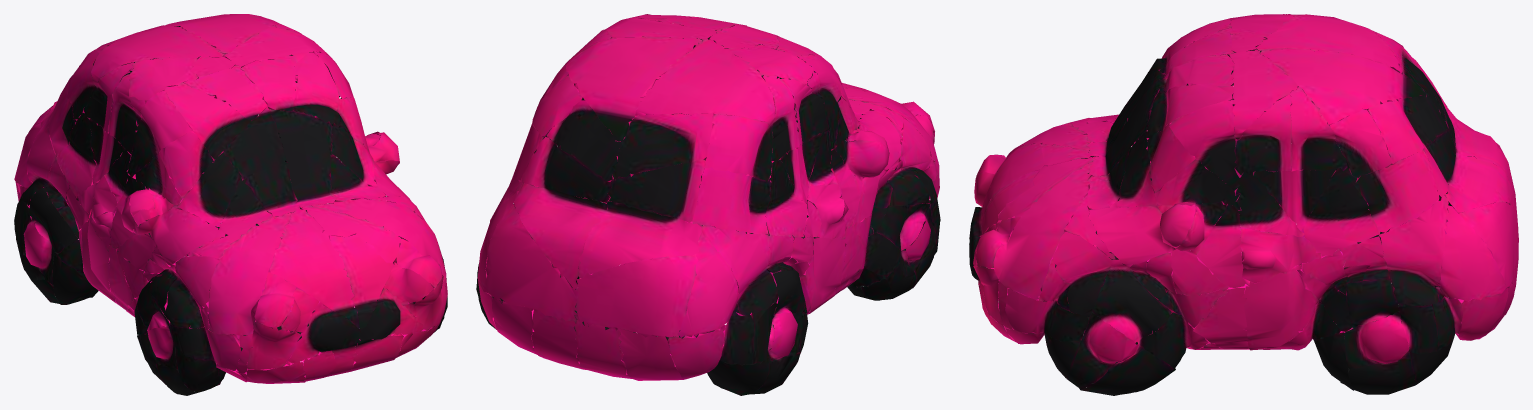
The model's file is navigation-car.glb.
3 renders of one model, left to right at view 1: azimuth 30°, elevation 25°; view 2: azimuth 150°, elevation 25°; view 3: azimuth 270°, elevation 25°, orthographic. The views are drawn at different scales.
Visible parts, largest first — view 1: Poplur shared grounded normalization; view 2: Poplur shared grounded normalization; view 3: Poplur shared grounded normalization.
Part boxes in pixels (bbox=[...]): Poplur shared grounded normalization: bbox=[14, 14, 447, 395]; Poplur shared grounded normalization: bbox=[476, 14, 940, 395]; Poplur shared grounded normalization: bbox=[969, 14, 1518, 395].
Size of the model in its own units: 3.17 by 2.86 by 5.
Materials: 1 (1 with a texture image).
